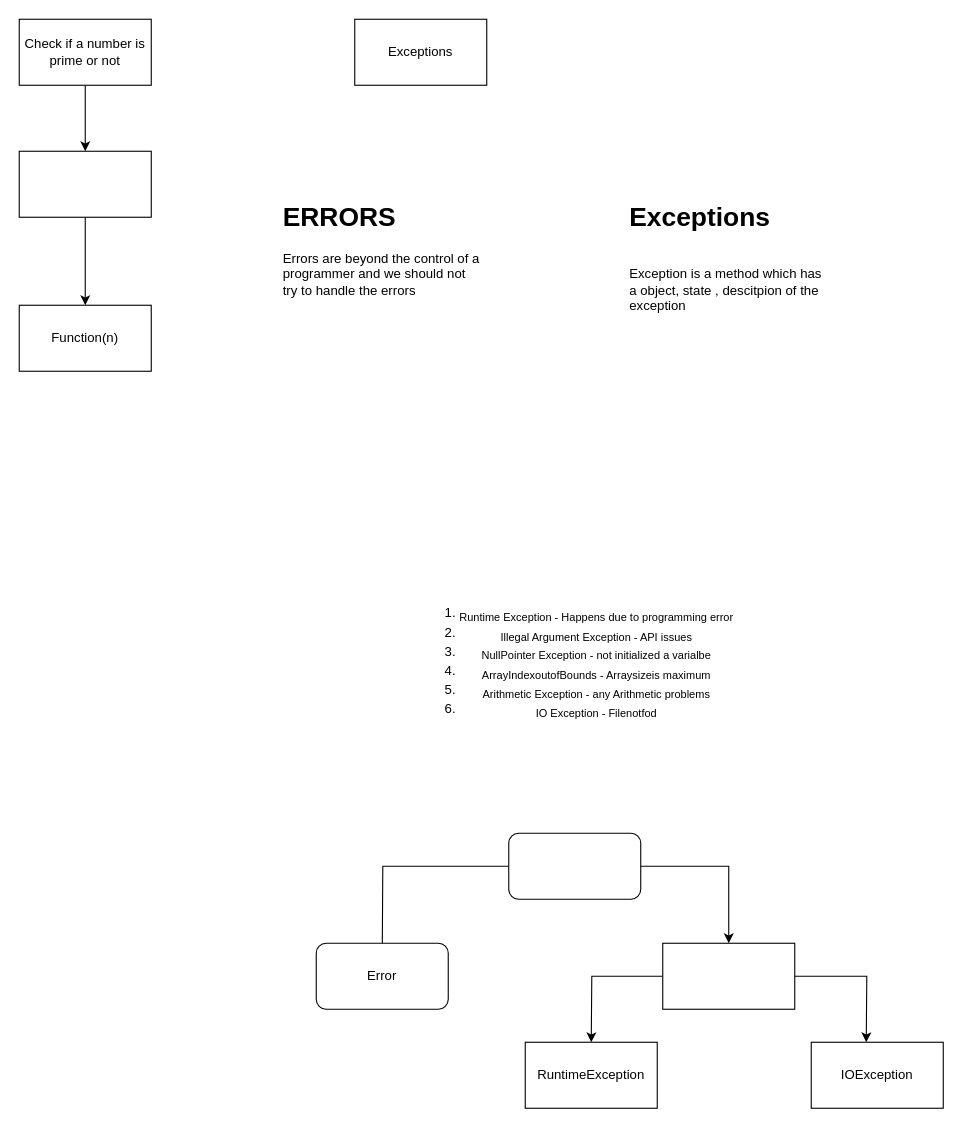
Image size: 963x1128. Some labels were removed from this diagram. Here are the shapes that lost their labels. From the top down, the centre of each, then its label:
At (84,183): "int".
At (574,865): "Throwable".
At (728,975): "Exception".
